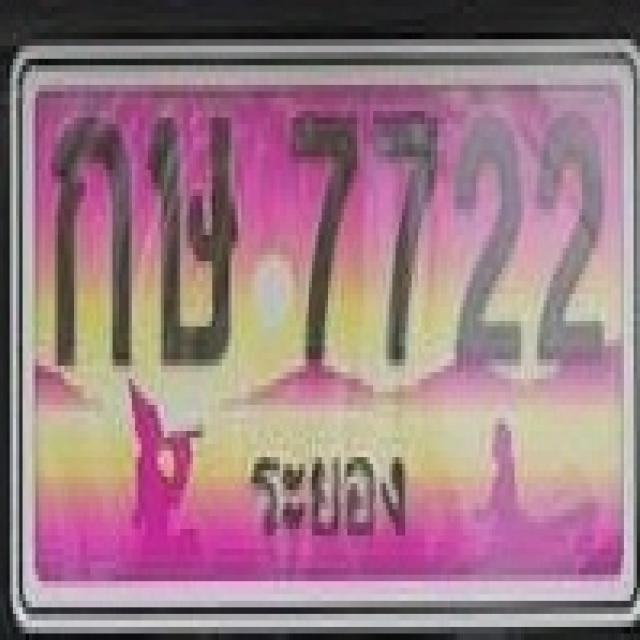license_plate: (11, 39, 640, 640)
